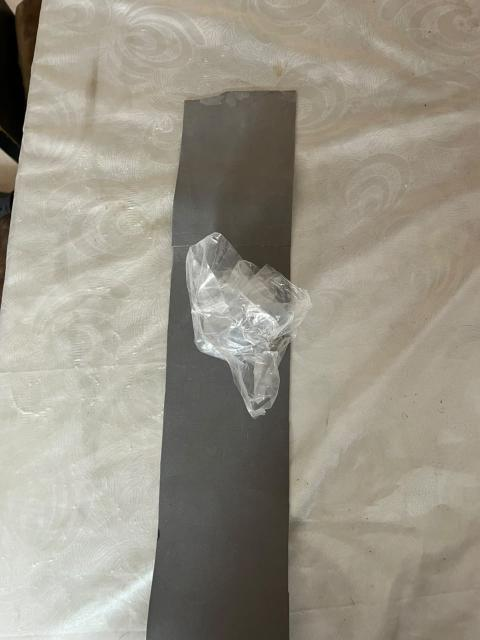LDPE: (168, 203, 332, 433)
